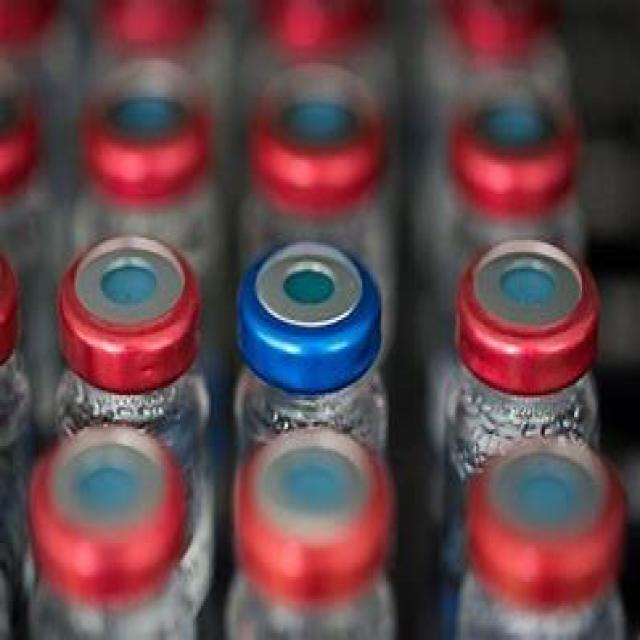vial: (238, 421, 388, 594), (235, 232, 401, 367), (482, 431, 620, 592), (40, 430, 188, 580), (461, 242, 604, 388), (66, 237, 196, 379), (253, 76, 395, 198), (466, 69, 585, 206), (78, 80, 214, 188), (266, 0, 387, 62), (103, 0, 216, 64), (442, 0, 549, 59), (0, 0, 61, 80), (0, 90, 30, 201), (2, 244, 18, 364)
